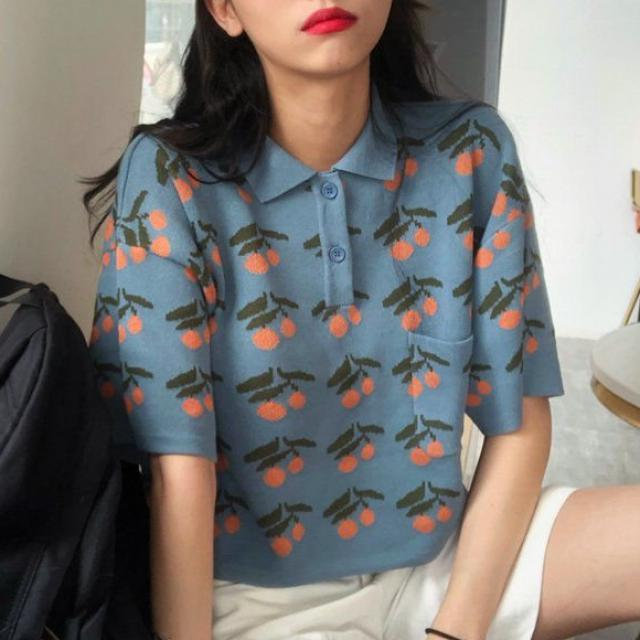Shirt: (91, 96, 566, 589)
